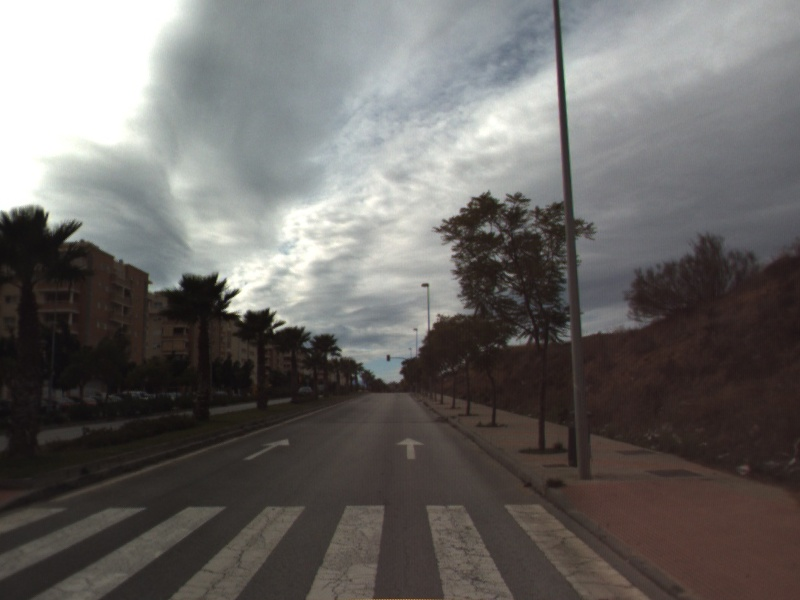STRAIGHT: (241, 436, 291, 462), (394, 435, 426, 461)
